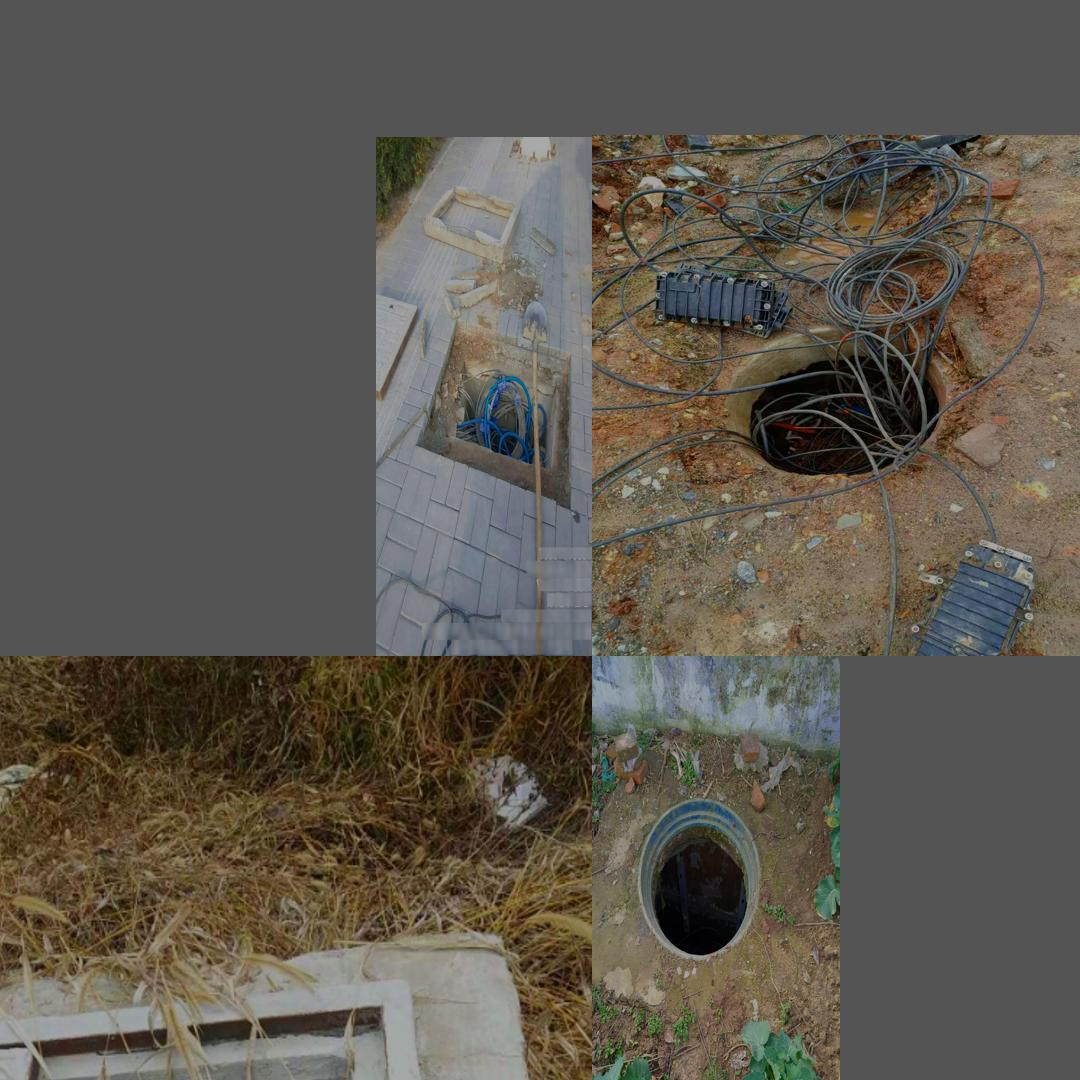lose: (0, 980, 474, 1080), (727, 331, 953, 475), (638, 798, 760, 958), (441, 345, 565, 473)
